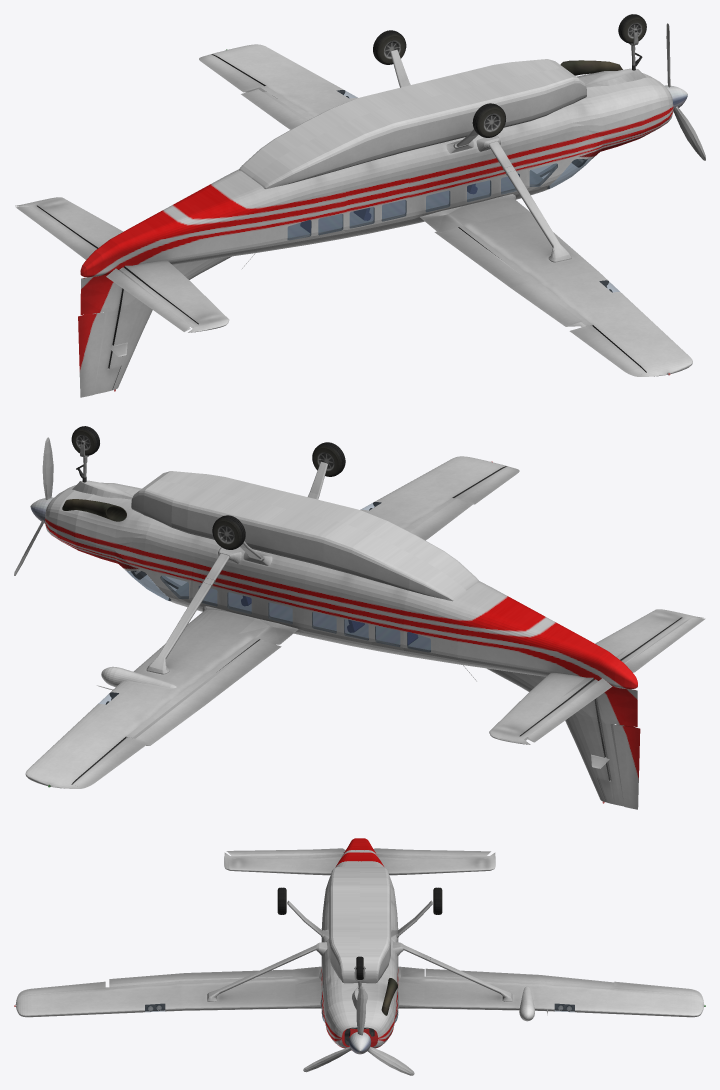
File: caravanW.obj
The picture shows the model from 3 angles, top to bottom: view 1: azimuth 30°, elevation 25°; view 2: azimuth 150°, elevation 25°; view 3: azimuth 270°, elevation 25°; orthographic projection. The views are drawn at different scales.
Parts seen in each view (by area): view 1: body_voletG, alerone_left_voletG.001, rudder_voletG.007, fan_voletG.005, elevator_left_voletG.009, alerone_right_voletG.002, elevator_right_voletG.011; view 2: body_voletG, alerone_right_voletG.002, rudder_voletG.007, fan_voletG.005, elevator_right_voletG.011, alerone_left_voletG.001, elevator_left_voletG.009; view 3: body_voletG, fan_voletG.005, alerone_left_voletG.001, alerone_right_voletG.002, elevator_left_voletG.009, elevator_right_voletG.011.
Boxes of the visible parts, x1,y1,x2,y2 form: body_voletG: (15,14,692,394); alerone_left_voletG.001: (434,227,582,326); rudder_voletG.007: (78,312,105,397); fan_voletG.005: (664,23,705,160); elevator_left_voletG.009: (106,268,190,331); alerone_right_voletG.002: (241,89,305,129); elevator_right_voletG.011: (16,206,94,259); body_voletG: (25,426,703,806); alerone_right_voletG.002: (135,640,281,745); rudder_voletG.007: (613,724,640,809); fan_voletG.005: (14,437,53,575); elevator_right_voletG.011: (528,678,612,742); alerone_left_voletG.001: (410,498,473,540); elevator_left_voletG.009: (625,618,705,672); body_voletG: (14,838,705,1050); fan_voletG.005: (303,986,414,1075); alerone_left_voletG.001: (109,969,295,986); alerone_right_voletG.002: (425,968,614,987); elevator_left_voletG.009: (226,848,345,855); elevator_right_voletG.011: (373,848,490,855).
Bounding box in the file's own units: 12.58 × 4.93 × 15.85.
